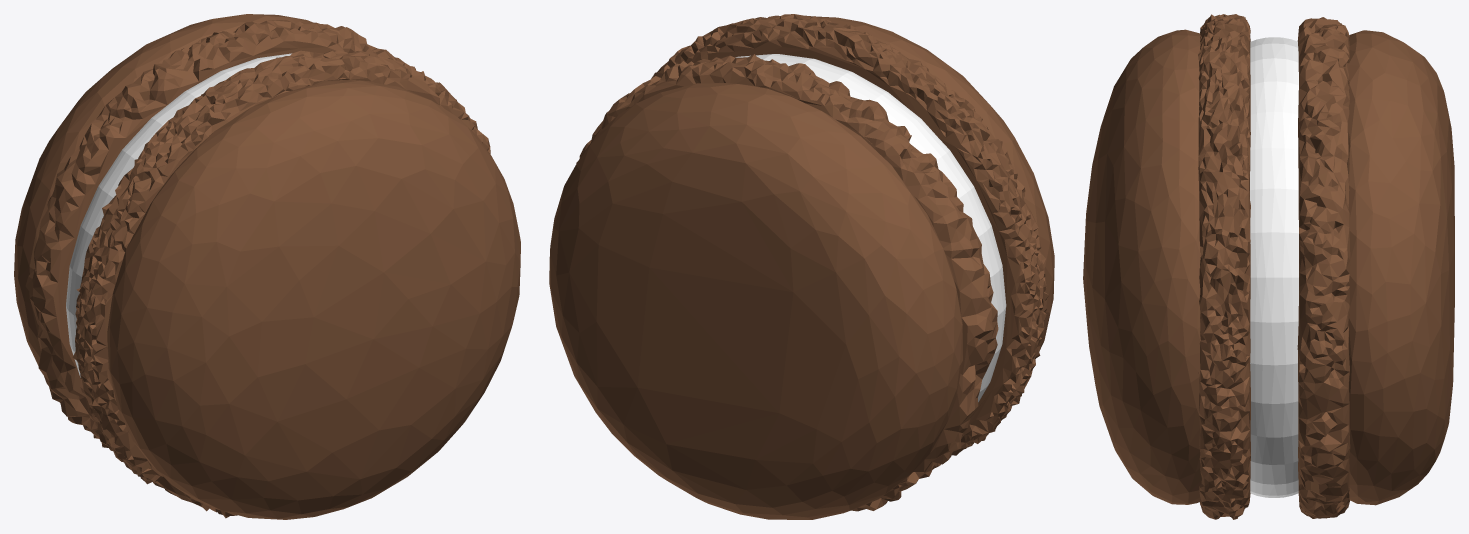
Rendered from macaroon_C.glb.
The picture shows the model from 3 angles, left to right: view 1: azimuth 30°, elevation 25°; view 2: azimuth 150°, elevation 25°; view 3: azimuth 270°, elevation 25°; orthographic projection. The views are drawn at different scales.
Parts seen in each view (by area): view 1: Cube.001, Cube.002, Cube.652; view 2: Cube.001, Cube.002, Cube.652; view 3: Cube.001, Cube.002, Cube.652.
Boxes of the visible parts, left/top/right/bottom form: Cube.001: left=14, top=14, right=520, bottom=519; Cube.002: left=25, top=20, right=490, bottom=518; Cube.652: left=66, top=53, right=291, bottom=377; Cube.001: left=549, top=16, right=1054, bottom=519; Cube.002: left=576, top=14, right=1048, bottom=511; Cube.652: left=735, top=54, right=1006, bottom=402; Cube.001: left=1083, top=29, right=1454, bottom=505; Cube.002: left=1198, top=14, right=1350, bottom=519; Cube.652: left=1250, top=37, right=1298, bottom=497.
Size of the model in its own units: 15.71 by 15.86 by 11.55.
